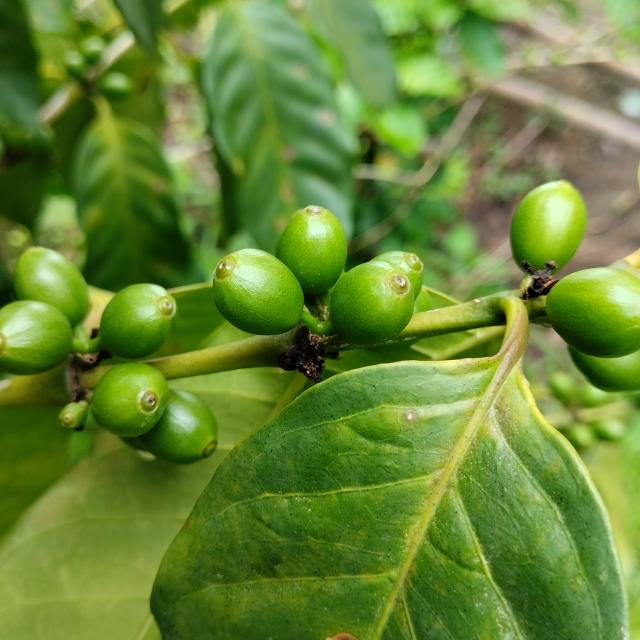green: (546, 267, 640, 358), (213, 249, 304, 335), (330, 260, 415, 346), (511, 180, 587, 272), (276, 205, 347, 294), (12, 246, 89, 326), (136, 389, 217, 464), (98, 283, 176, 358), (90, 363, 169, 437), (0, 300, 72, 375), (569, 346, 640, 392), (373, 251, 424, 299)
